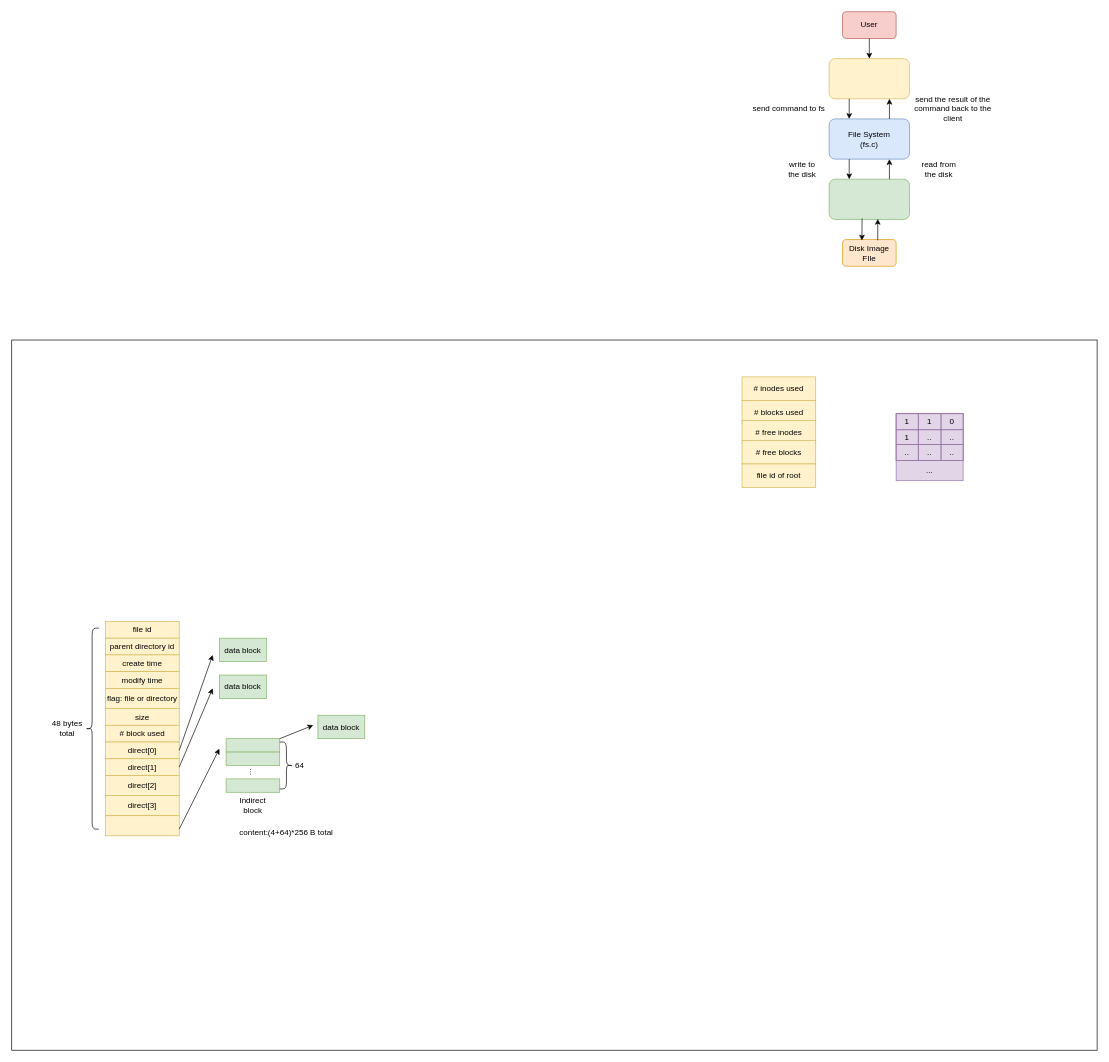
This 1109x1062 diagram has some shape labels left out. Here are the shapes that lost their labels. From the top down, the box of each, then its label:
(828, 58, 910, 99): Shell Program (client.c)
(828, 179, 910, 219): Disk Emulator (disk.c)
(105, 815, 179, 836): indirect
